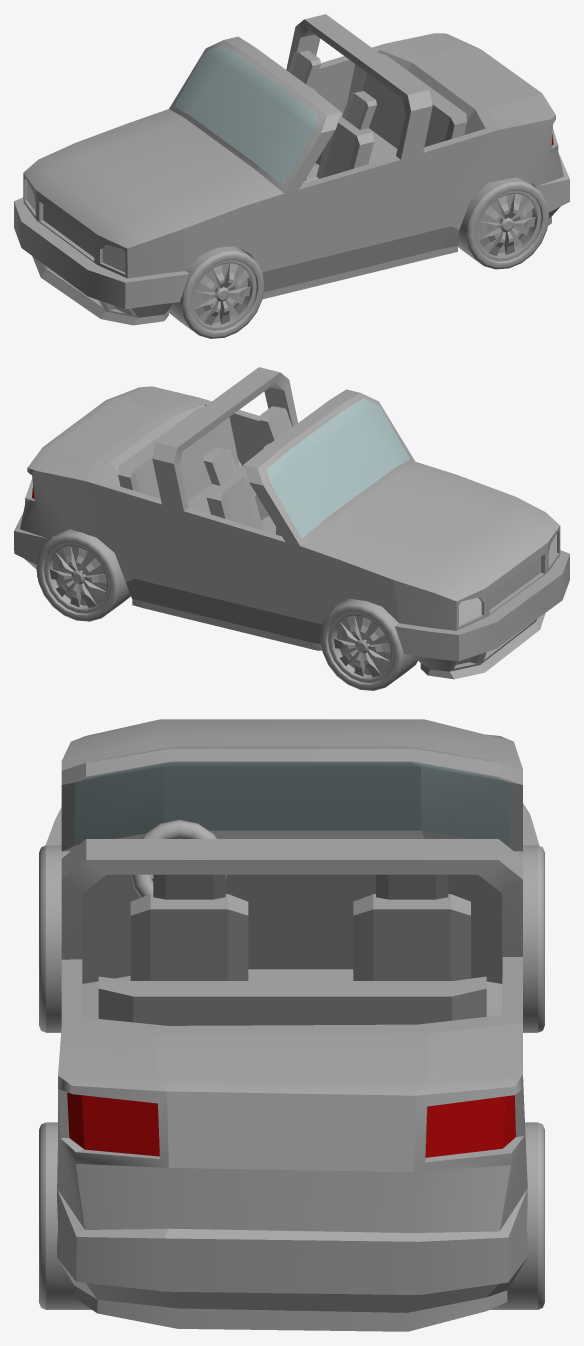
Rendered from Car_001.fbx.
The picture shows the model from 3 angles, top to bottom: view 1: azimuth 30°, elevation 25°; view 2: azimuth 150°, elevation 25°; view 3: azimuth 270°, elevation 25°; orthographic projection. The views are drawn at different scales.
Visible parts, largest first — view 1: CarBody, Wiel_BackLeft, Wiel_FrontLeft; view 2: CarBody, Wiel_BackRight, Wiel_FrontRight; view 3: CarBody, Wiel_FrontLeft, Wiel_BackLeft, Wiel_BackRight, Wiel_FrontRight.
Part boxes in pixels (<box>): CarBody: <box>14,14,569,325</box>; Wiel_BackLeft: <box>458,177,548,269</box>; Wiel_FrontLeft: <box>169,246,264,338</box>; CarBody: <box>14,367,569,679</box>; Wiel_BackRight: <box>36,529,130,621</box>; Wiel_FrontRight: <box>320,598,417,690</box>; CarBody: <box>45,719,539,1331</box>; Wiel_FrontLeft: <box>39,845,61,1032</box>; Wiel_BackLeft: <box>39,1122,91,1309</box>; Wiel_BackRight: <box>490,1122,544,1309</box>; Wiel_FrontRight: <box>523,845,544,1032</box>.
Size of the model in its own units: 1.78 by 0.6901 by 0.8234.
